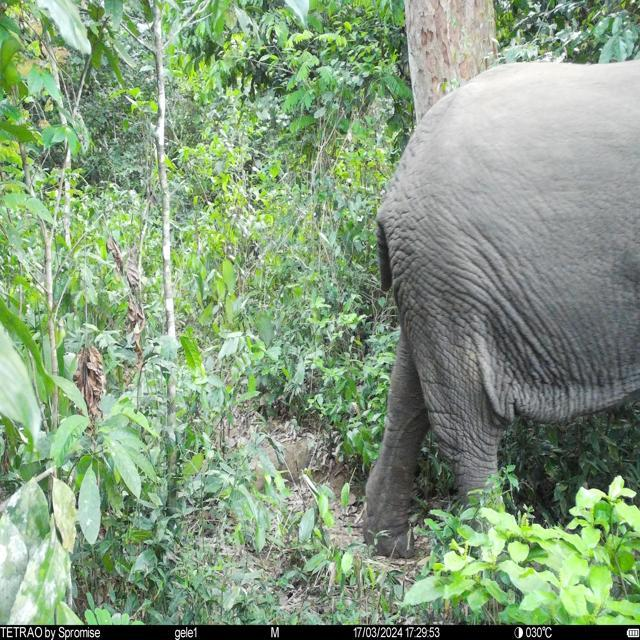elephant: (363, 56, 640, 562)
